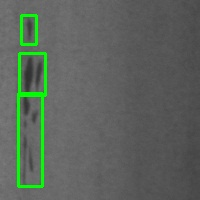inclusion: (18, 93, 42, 186), (19, 53, 45, 95), (22, 16, 36, 44)
